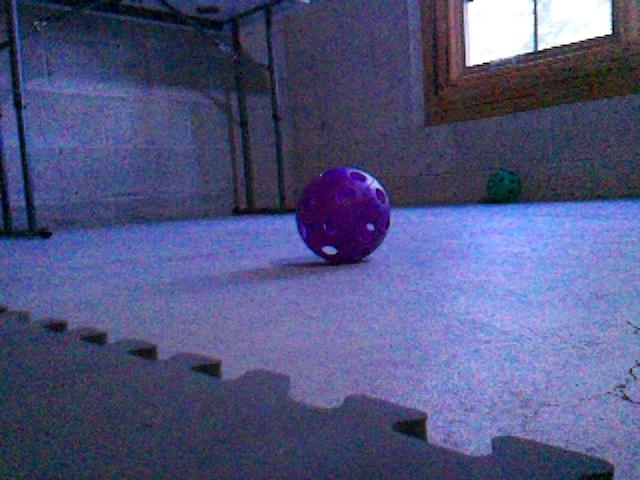Green: (486, 170, 521, 203)
Purple: (294, 166, 393, 265)
